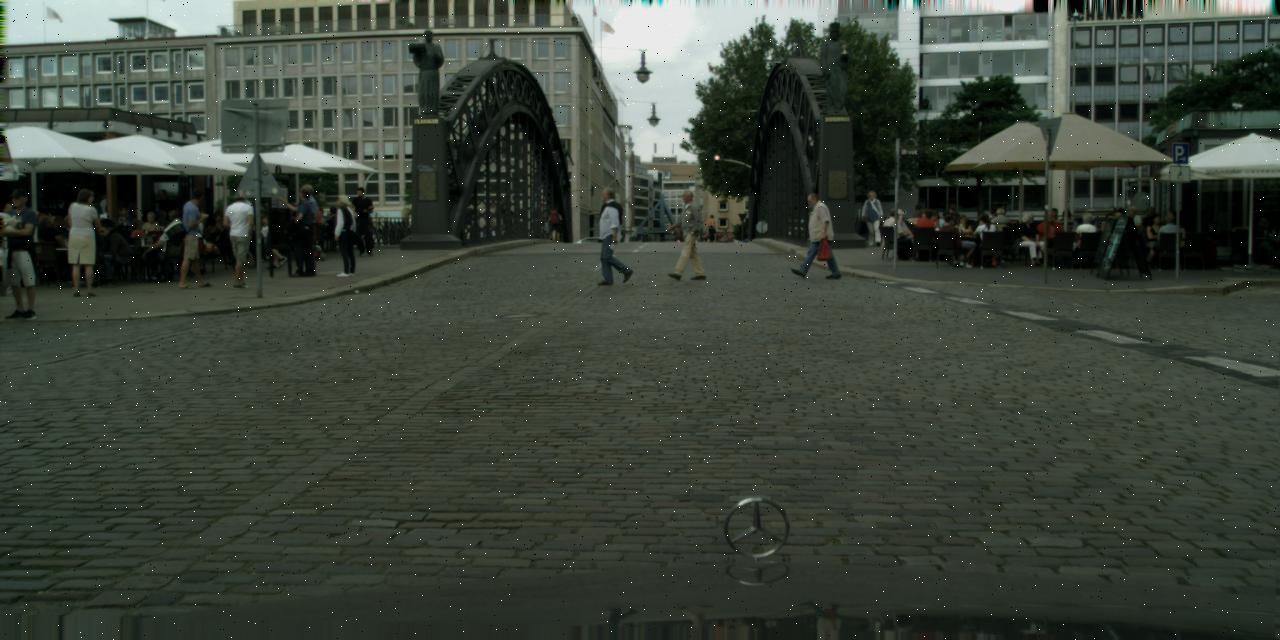ped: (0, 189, 46, 318), (61, 188, 105, 296), (218, 184, 261, 288), (176, 187, 218, 288), (592, 187, 632, 284), (285, 185, 322, 277), (669, 191, 705, 280), (290, 184, 326, 272), (797, 193, 831, 278), (329, 195, 362, 276), (0, 203, 23, 294), (202, 208, 235, 268), (348, 186, 376, 255), (153, 188, 178, 250), (861, 191, 884, 245), (96, 190, 116, 239), (324, 206, 342, 252), (1100, 207, 1128, 230), (245, 222, 256, 268), (548, 209, 561, 240), (274, 243, 288, 268), (261, 218, 268, 261), (706, 214, 717, 241), (674, 224, 682, 244), (999, 206, 1007, 216), (991, 208, 998, 218), (221, 258, 224, 260), (267, 267, 269, 269)
